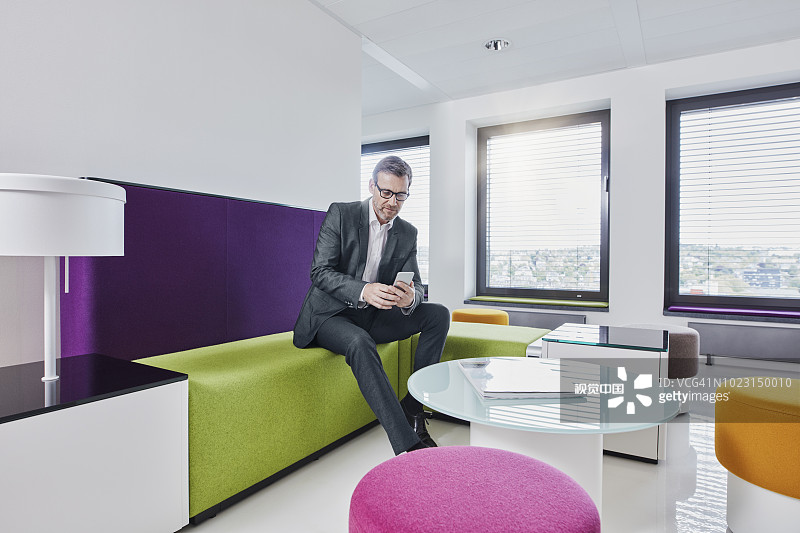reading: (359, 268, 427, 315)
